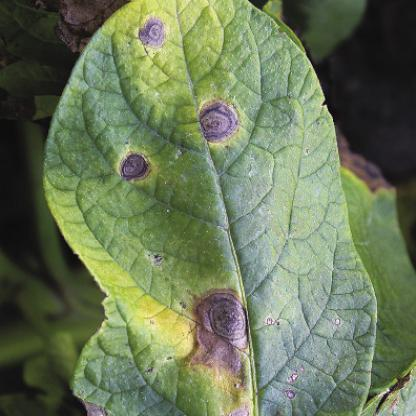potato leaf early blight: (43, 1, 378, 415)
